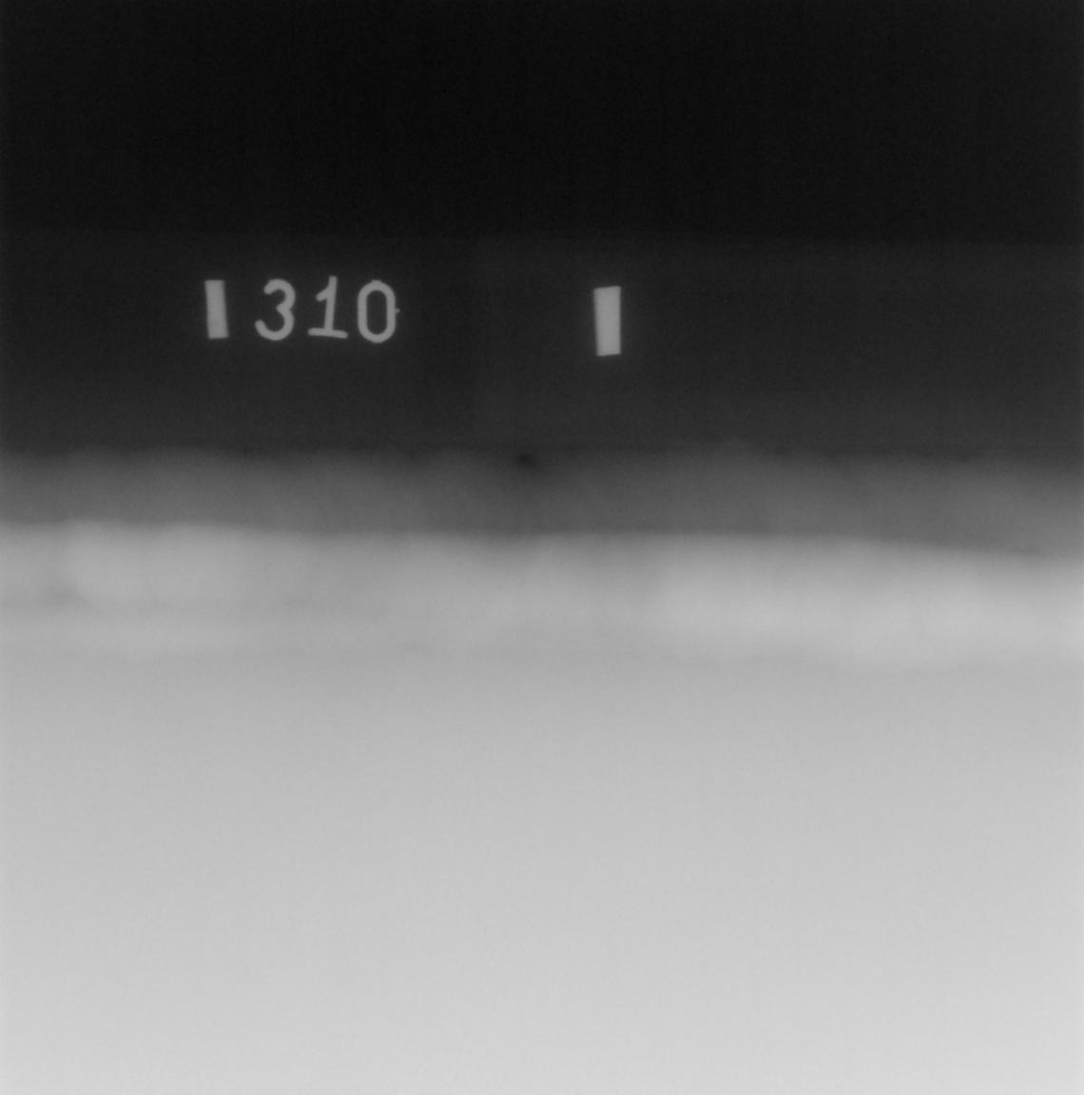Pore/Porosity: (519, 455, 533, 466)
